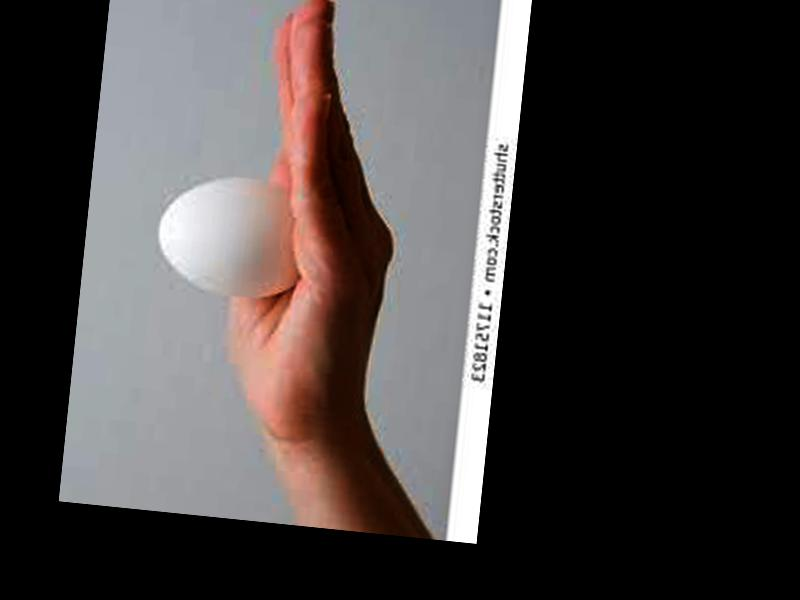Eggs: (154, 170, 309, 296)
